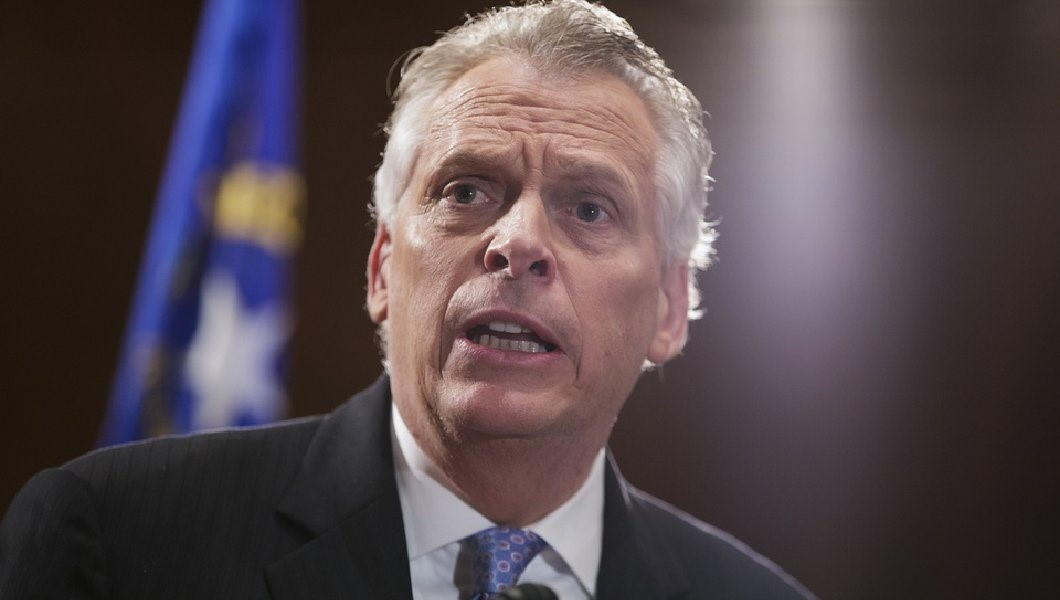face_no_mask: (364, 3, 706, 439)
